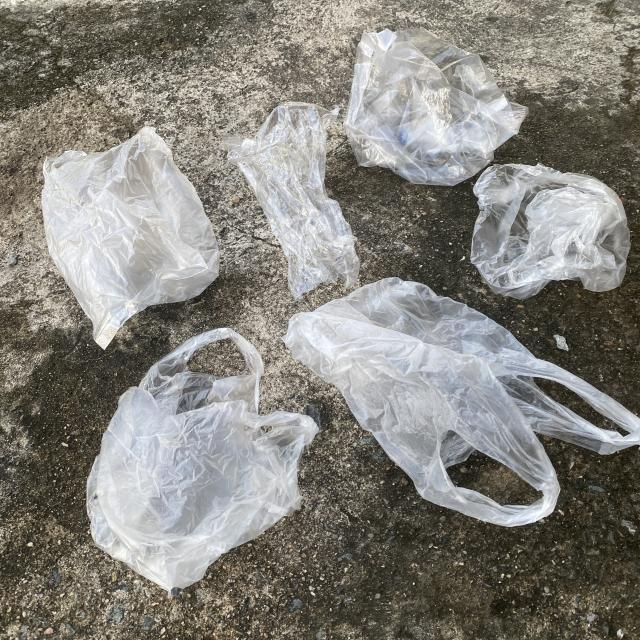Single-layer Plastic: (285, 278, 640, 526), (86, 328, 318, 590), (41, 128, 219, 349), (345, 28, 528, 186), (222, 102, 360, 300), (471, 164, 630, 299)
